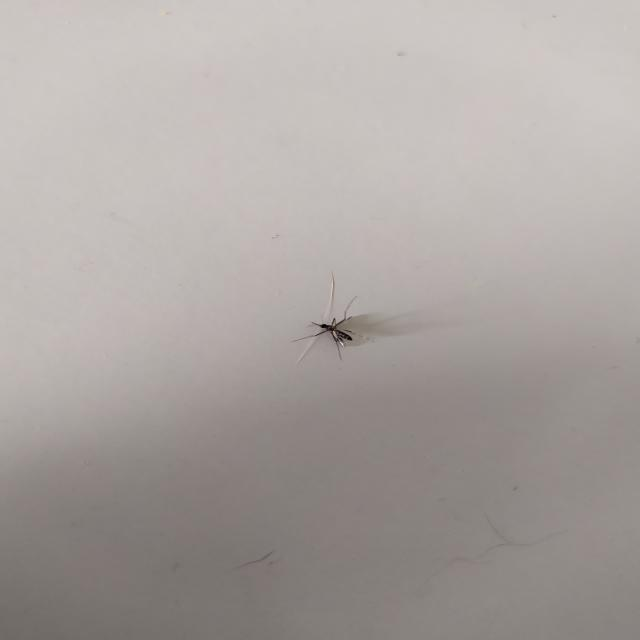albopictus: (286, 267, 371, 367)
